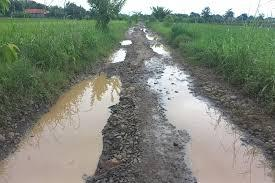Pothole: (0, 20, 139, 183), (141, 19, 275, 183), (141, 22, 173, 58), (107, 44, 126, 66), (115, 36, 133, 46)
